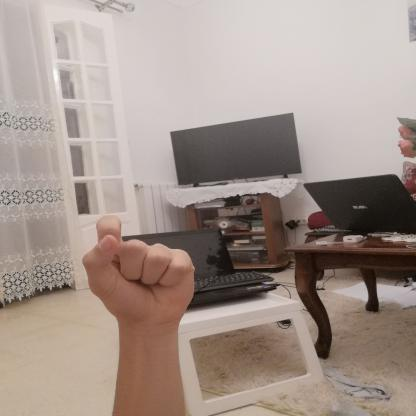FAA: (71, 208, 208, 333)
